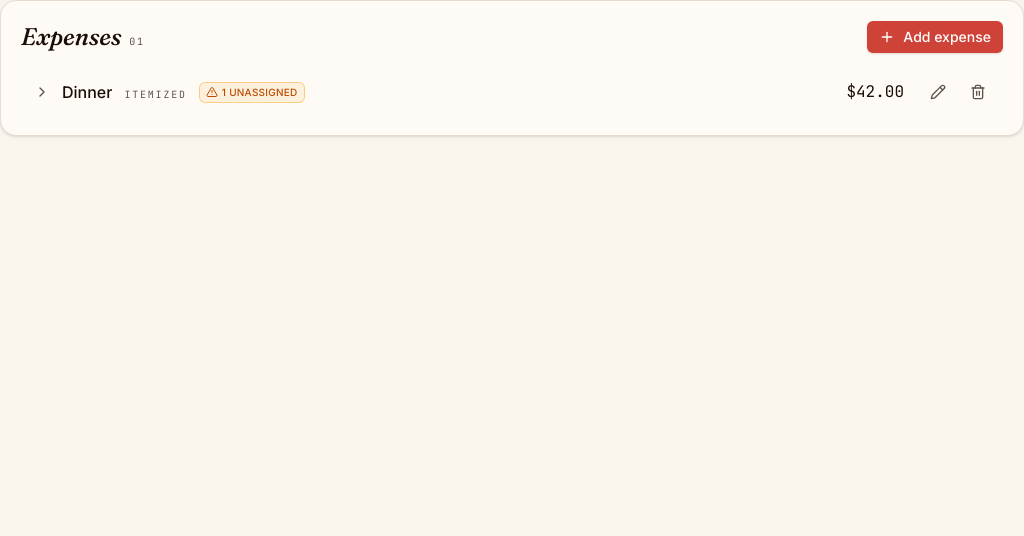
Test case: ExpensesPanel — unassigned items warning › shows the row tag and breakdown banner when a restaurant has unassigned items
Check: the element named "1 unassigned item" is shown, box left=199, top=82, right=305, bottom=102
// Expand the breakdown — the alert banner should appear
Click the button with aria-label "expand dinner" at coordinates (469, 92), box left=22, top=70, right=916, bottom=114
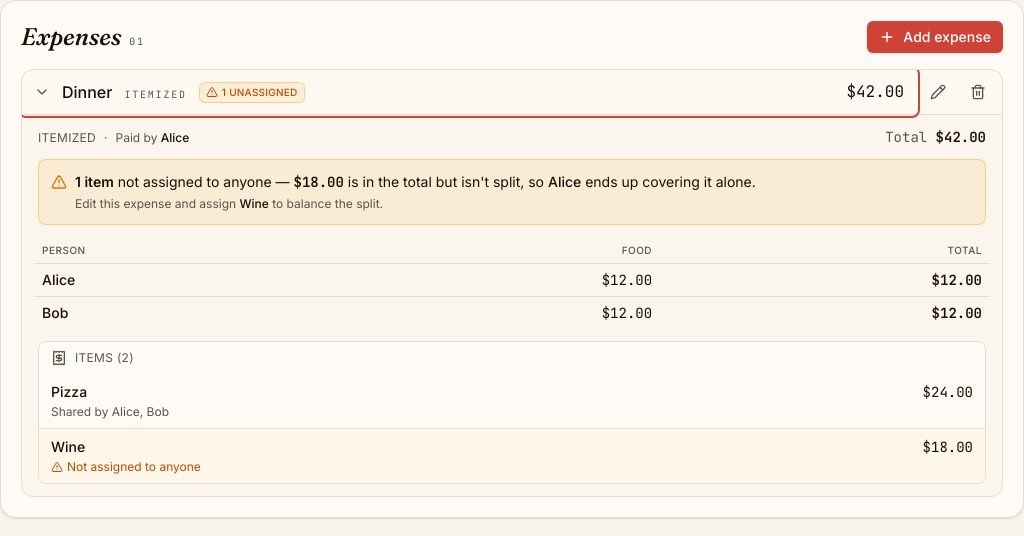
Check: the message shows "1 item", box left=38, top=159, right=986, bottom=225
Check: the message shows "$18.00", box left=294, top=173, right=344, bottom=191
Check: the message shows "alice ends up covering it", box left=38, top=159, right=986, bottom=225
